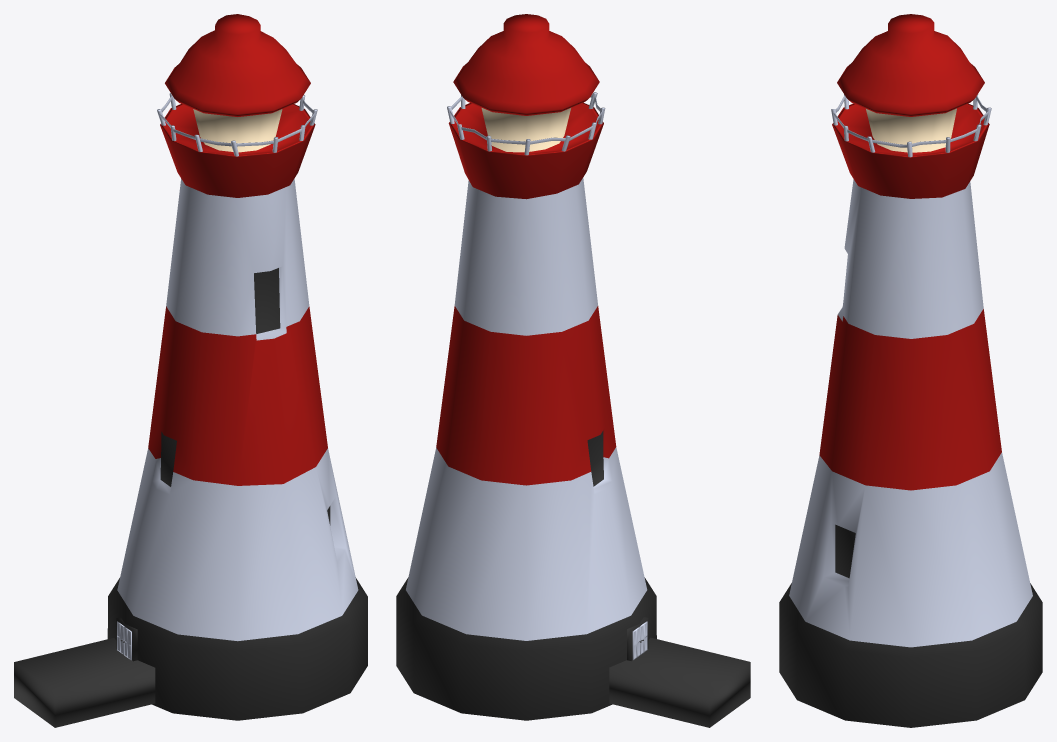
The model's file is Lighthouse.fbx.
The picture shows the model from 3 angles, left to right: view 1: azimuth 30°, elevation 25°; view 2: azimuth 150°, elevation 25°; view 3: azimuth 270°, elevation 25°; orthographic projection.
Visible parts, largest first — view 1: polySurface1; view 2: polySurface1; view 3: polySurface1.
Part boxes in pixels (x1=…): polySurface1: x1=14, y1=14, x2=367, y2=727; polySurface1: x1=396, y1=14, x2=750, y2=727; polySurface1: x1=779, y1=14, x2=1042, y2=727.
Size of the model in its own units: 23.24 by 45.12 by 16.57.
